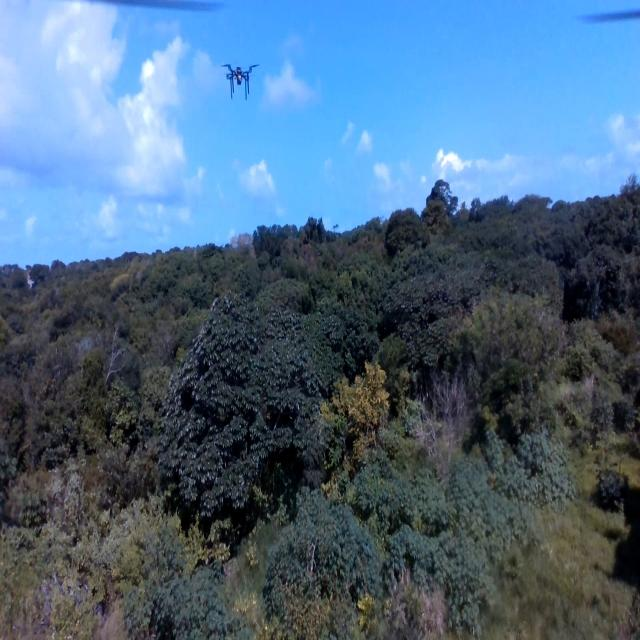-uav-: (216, 61, 262, 111)
